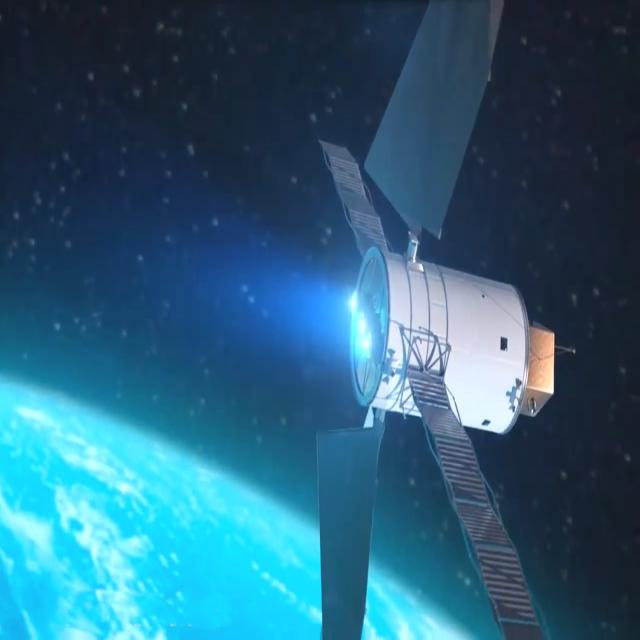satellite: (238, 0, 611, 640)
